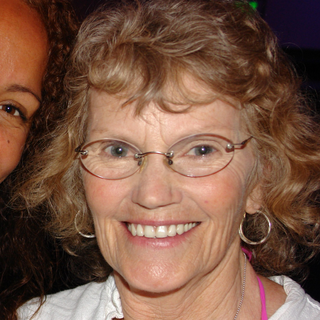eye: (179, 141, 224, 162), (99, 138, 136, 163), (1, 98, 30, 128)
